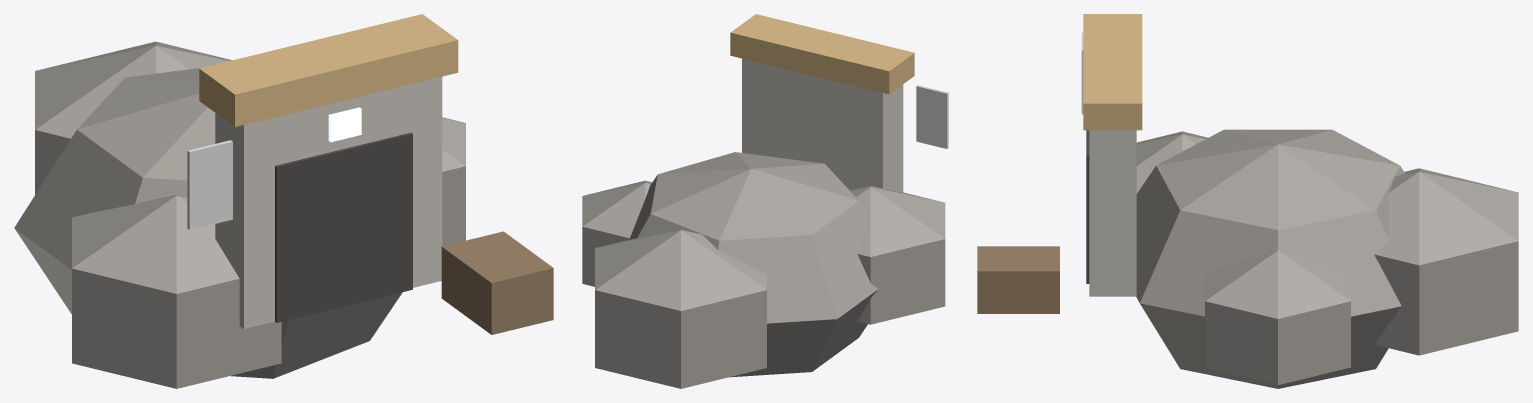
3 renders of one model, left to right at view 1: azimuth 30°, elevation 25°; view 2: azimuth 150°, elevation 25°; view 3: azimuth 270°, elevation 25°, orthographic. The views are drawn at different scales.
Visible parts, largest first — view 1: body; view 2: body; view 3: body.
Boxes of the visible parts, bbox=[...] form: body: bbox=[14, 14, 553, 388]; body: bbox=[582, 14, 948, 388]; body: bbox=[977, 14, 1518, 388].
Bounding box in the file's own units: 7.29 × 5.8 × 9.18.
